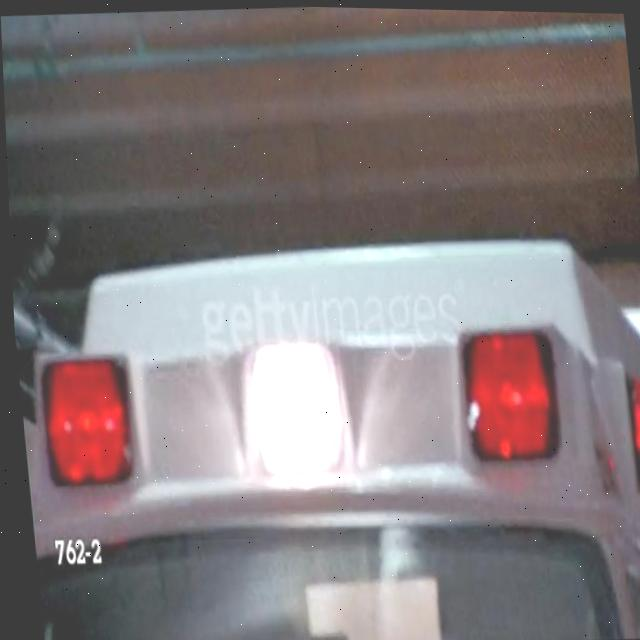emergency: (8, 218, 640, 640)
